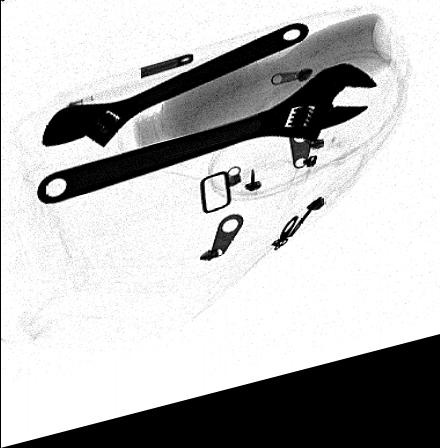Wrench: (35, 79, 376, 207), (41, 37, 309, 152)
